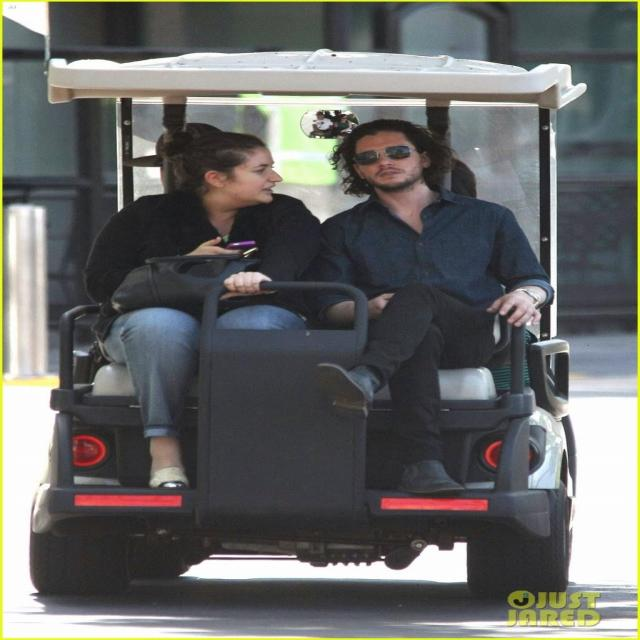nomask: (359, 130, 412, 185), (232, 149, 280, 199)
